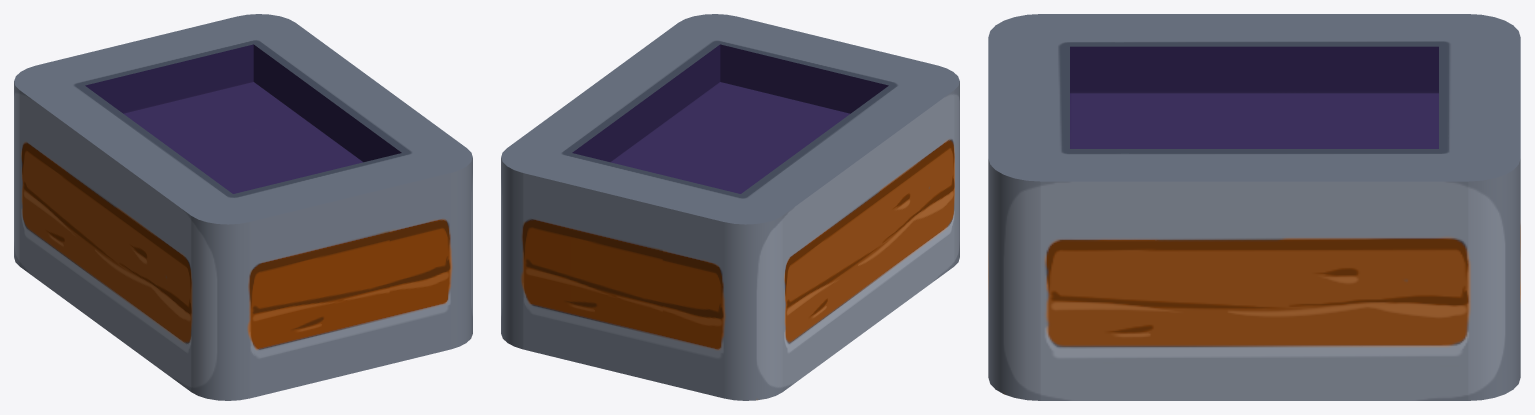
Rendered from Chest_base.fbx.
3 views of the same model, side by side, from view 1: azimuth 30°, elevation 25°; view 2: azimuth 150°, elevation 25°; view 3: azimuth 270°, elevation 25° (orthographic). The views are drawn at different scales.
Parts seen in each view (by area): view 1: Chest_base; view 2: Chest_base; view 3: Chest_base.
Part boxes in pixels (box(x1,y1,x2,y2)): Chest_base: box(14, 14, 472, 400); Chest_base: box(501, 14, 959, 400); Chest_base: box(988, 14, 1520, 400).
Bounding box in the file's own units: 146 × 89.1 × 196.
